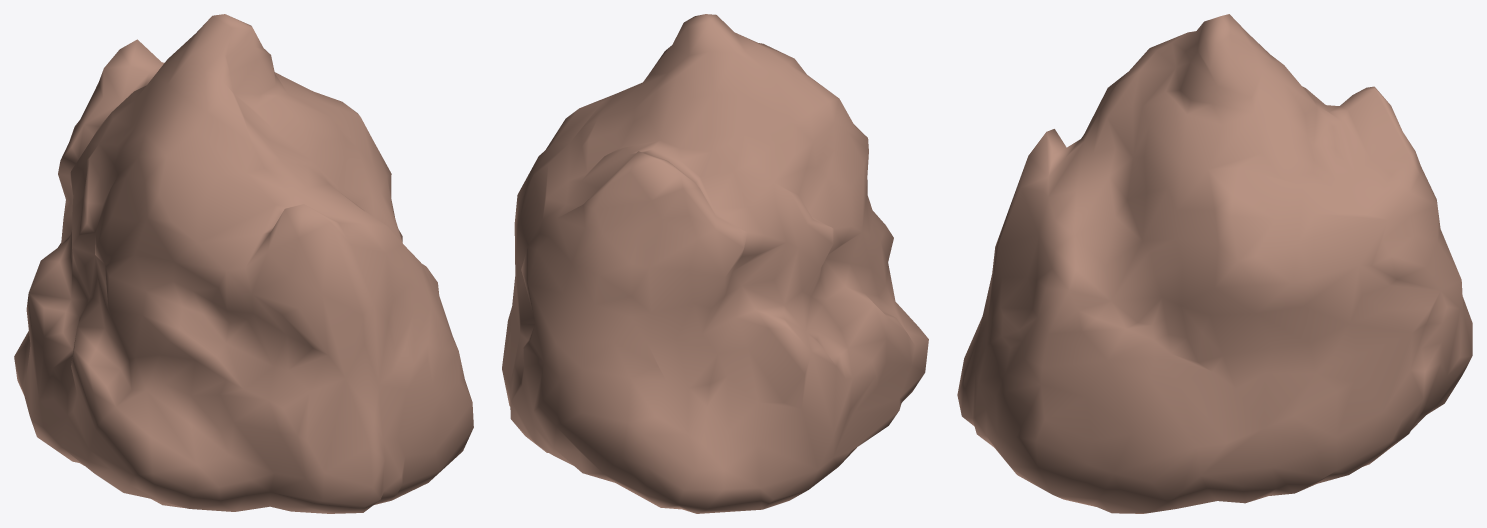
Rendered from lp_temple_rock.fbx.
The picture shows the model from 3 angles, left to right: view 1: azimuth 30°, elevation 25°; view 2: azimuth 150°, elevation 25°; view 3: azimuth 270°, elevation 25°; orthographic projection.
Visible parts, largest first — view 1: Japanese_Rock1; view 2: Japanese_Rock1; view 3: Japanese_Rock1.
Boxes of the visible parts, x1,y1,x2,y2 form: Japanese_Rock1: (14,14,473,513); Japanese_Rock1: (502,14,928,513); Japanese_Rock1: (957,14,1472,513).
Bounding box in the file's own units: 7.44 × 8.81 × 9.38.
